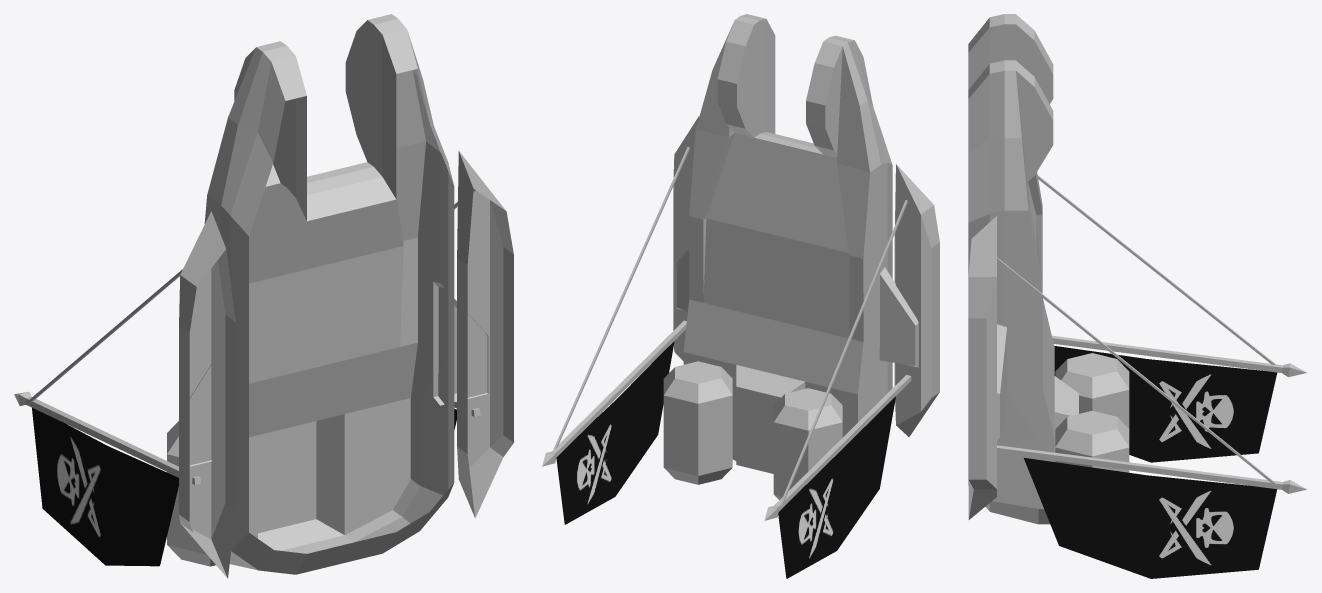
File: gas_my_5_body.fbx
3 renders of one model, left to right at view 1: azimuth 30°, elevation 25°; view 2: azimuth 150°, elevation 25°; view 3: azimuth 270°, elevation 25°, orthographic. The views are drawn at different scales.
Parts seen in each view (by area): view 1: Cube.420; view 2: Cube.420; view 3: Cube.420.
Part boxes in pixels (x1=…): Cube.420: x1=14, y1=14, x2=513, y2=578; Cube.420: x1=542, y1=14, x2=939, y2=578; Cube.420: x1=968, y1=14, x2=1306, y2=578.
Size of the model in its own units: 400 by 659 by 423.
